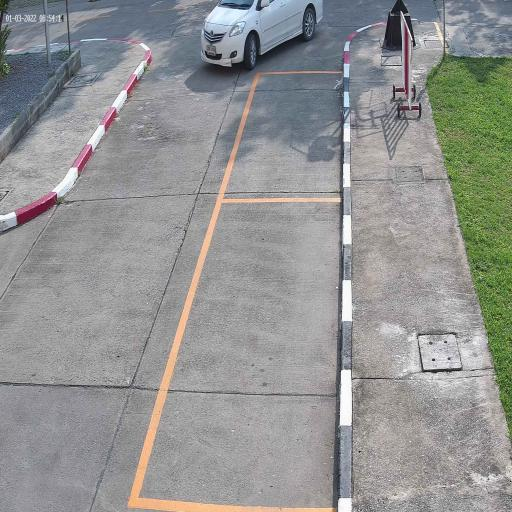car: (201, 0, 322, 71)
